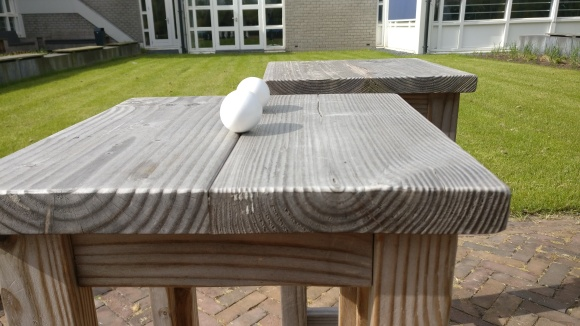egg: (218, 90, 262, 133), (237, 76, 271, 110)
